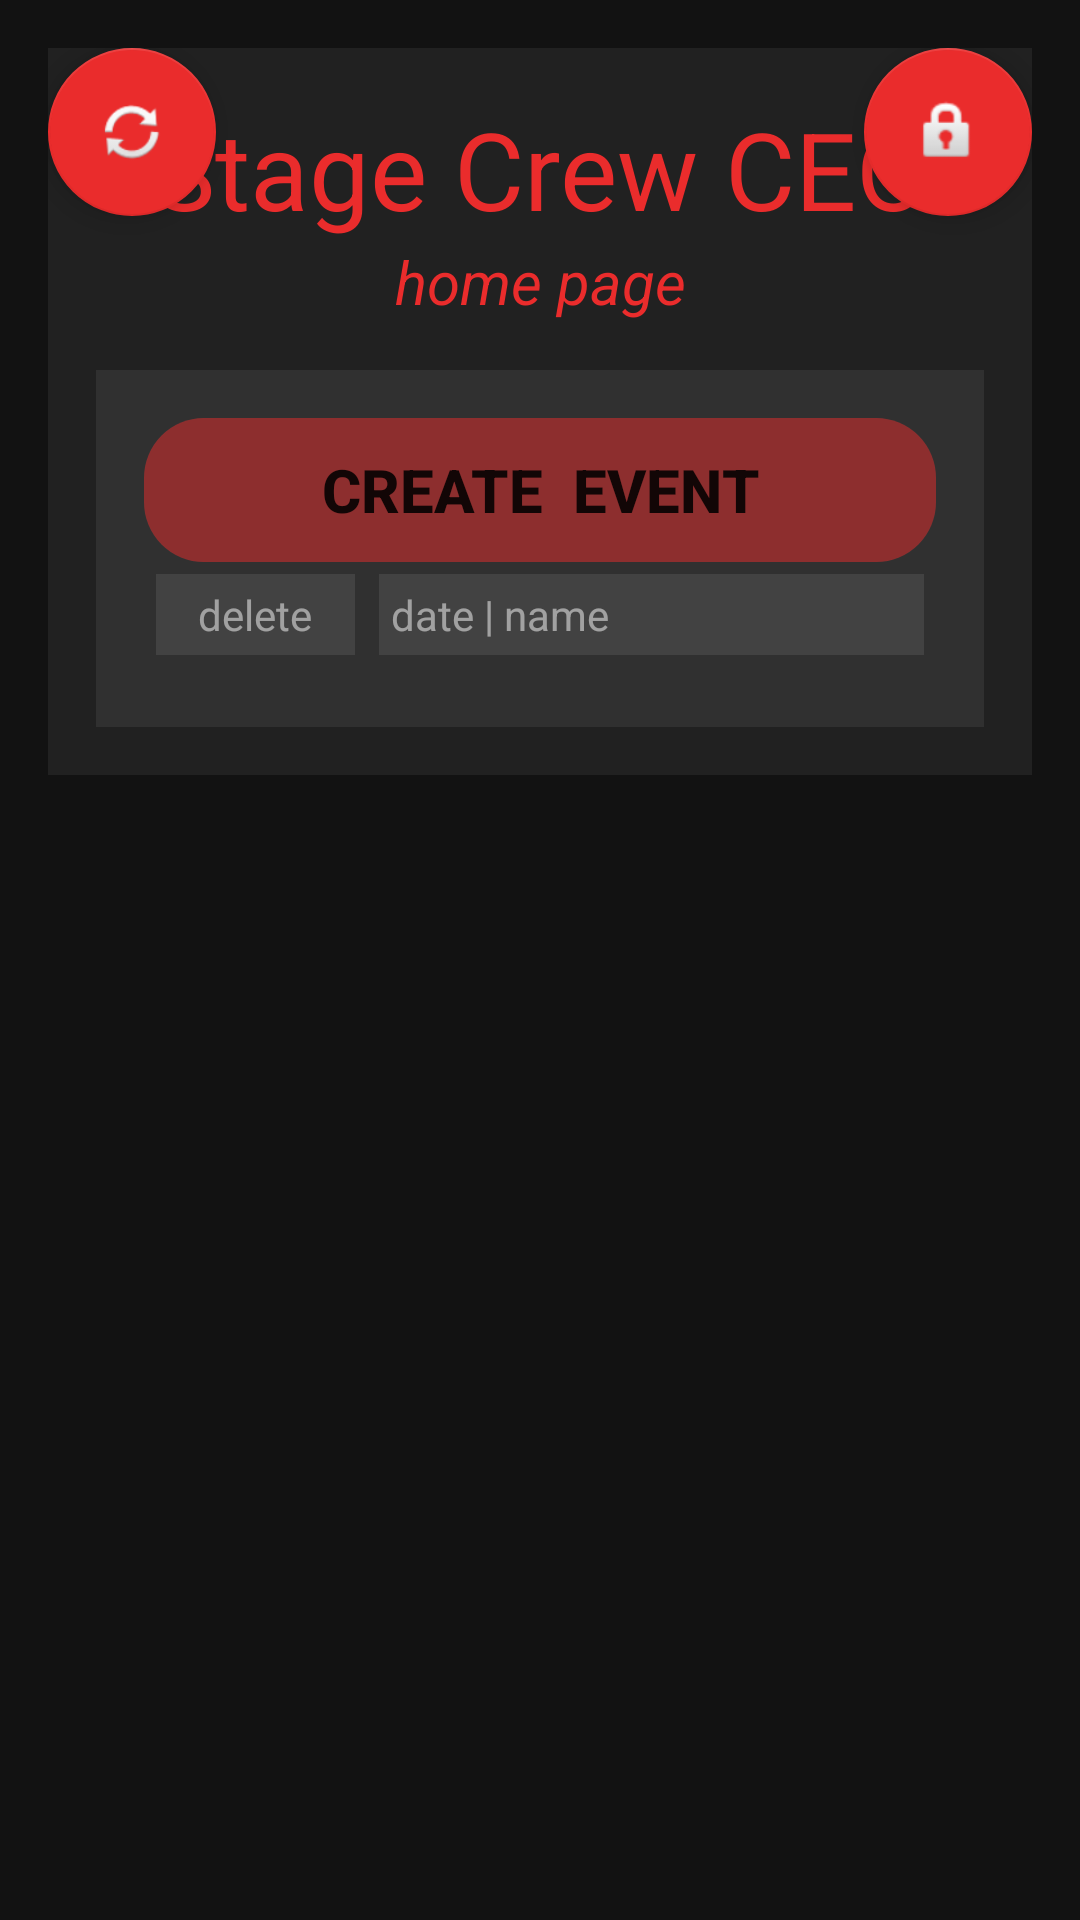

Named icons in this screenshot (1080 × 1920) and their centers, (x,y):
lock idle: (948,132)
popup sync: (132,132)
